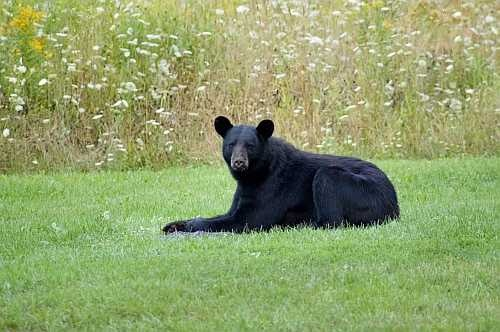bear: (156, 111, 284, 239)
